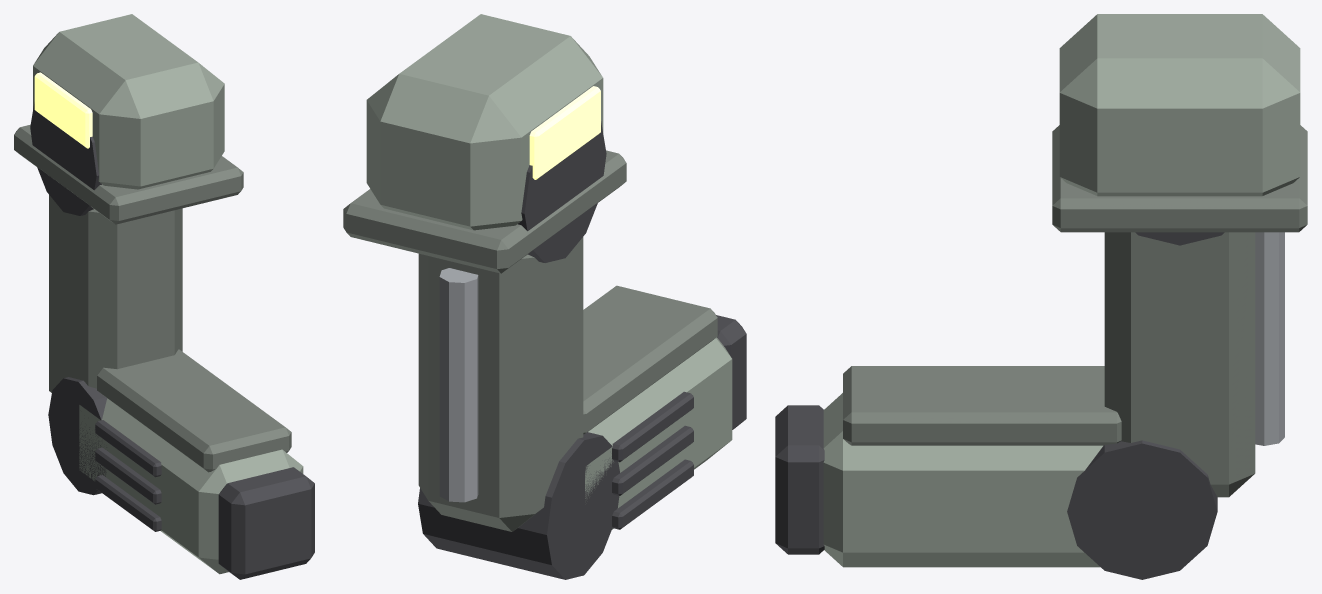
The model's file is light-armR.glb.
3 renders of one model, left to right at view 1: azimuth 30°, elevation 25°; view 2: azimuth 150°, elevation 25°; view 3: azimuth 270°, elevation 25°, orthographic. The views are drawn at different scales.
Parts seen in each view (by area): view 1: joint.forearm, armR, joint.pivot; view 2: joint.pivot, armR, joint.forearm; view 3: joint.forearm, joint.pivot, armR.
Part boxes in pixels (x1,y1,x2,y2): joint.forearm: [79, 349, 314, 579]; armR: [14, 14, 243, 224]; joint.pivot: [30, 102, 182, 495]; joint.pivot: [418, 121, 619, 579]; armR: [343, 14, 626, 273]; joint.forearm: [583, 285, 746, 529]; joint.forearm: [775, 366, 1121, 567]; joint.pivot: [1067, 232, 1284, 579]; armR: [1052, 14, 1307, 232].
Size of the model in its own units: 0.534 by 1.52 by 1.41.
